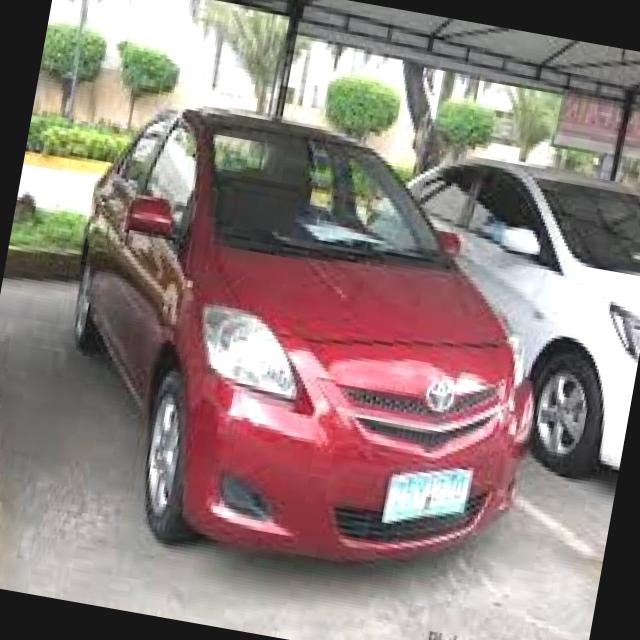ToyotaVios: (32, 84, 580, 602)
